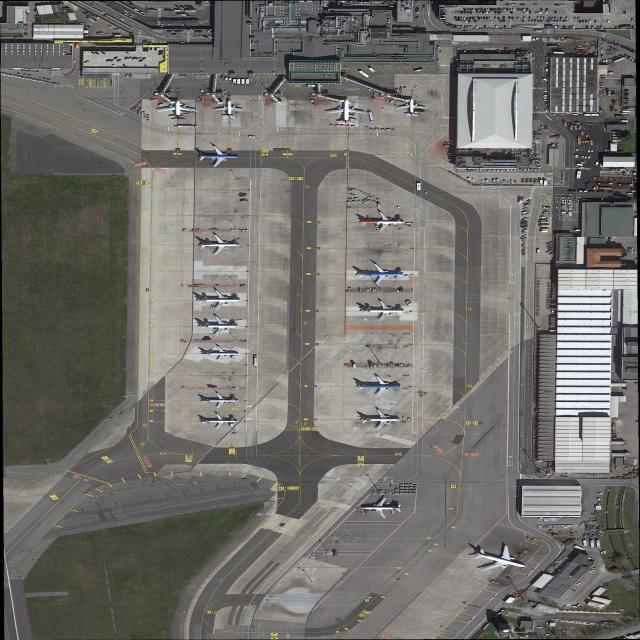large-vehicle: (533, 30, 543, 32)
plane: (460, 541, 541, 580), (323, 98, 368, 126), (356, 263, 405, 286), (195, 145, 240, 168), (355, 376, 403, 397), (360, 300, 407, 321), (360, 211, 406, 232), (358, 409, 403, 430), (198, 290, 242, 311), (198, 316, 240, 338), (199, 235, 242, 256), (362, 497, 403, 519), (157, 99, 199, 120), (394, 98, 429, 117), (201, 392, 240, 409), (213, 100, 246, 119), (200, 414, 239, 430), (203, 346, 240, 362)
small-vehicle: (112, 56, 119, 60), (174, 4, 180, 8), (133, 8, 140, 11), (104, 59, 111, 62), (157, 50, 164, 53), (413, 7, 420, 10), (102, 1, 107, 5), (112, 64, 117, 68), (467, 177, 472, 181), (592, 186, 597, 190), (414, 2, 420, 5), (129, 16, 135, 19), (120, 18, 126, 21), (129, 13, 135, 16), (203, 35, 209, 38), (23, 32, 29, 35), (130, 57, 136, 60), (179, 5, 185, 8), (188, 5, 194, 8), (184, 5, 190, 8), (94, 52, 100, 55), (158, 52, 164, 55), (613, 56, 619, 59), (609, 48, 615, 51), (543, 79, 549, 82), (96, 32, 104, 34), (492, 179, 496, 183), (485, 179, 489, 183), (573, 229, 581, 231), (497, 10, 501, 14), (632, 50, 636, 54), (449, 24, 454, 27), (415, 11, 420, 14), (415, 0, 420, 3), (124, 10, 129, 13), (124, 13, 129, 16), (206, 30, 211, 33), (116, 59, 121, 62), (109, 59, 114, 62), (138, 57, 143, 60), (128, 57, 133, 60), (123, 57, 128, 60), (194, 30, 199, 33), (198, 30, 203, 33), (174, 30, 179, 33), (101, 52, 106, 55), (138, 59, 143, 62), (463, 169, 468, 172), (619, 54, 624, 57), (630, 250, 635, 253), (610, 57, 615, 60), (605, 50, 610, 53), (609, 52, 614, 55), (608, 59, 613, 62), (415, 16, 420, 19), (414, 9, 419, 12), (571, 54, 578, 56), (626, 193, 633, 195), (600, 551, 603, 555), (586, 25, 589, 29), (453, 25, 457, 28), (397, 206, 401, 209), (394, 104, 398, 107), (441, 21, 447, 23), (446, 23, 450, 26), (611, 437, 617, 439), (34, 15, 40, 17), (140, 12, 146, 14), (180, 26, 186, 28), (108, 25, 112, 28), (179, 30, 183, 33), (84, 61, 90, 63), (126, 74, 129, 78), (129, 74, 132, 78), (225, 76, 228, 80), (91, 51, 95, 54), (142, 57, 146, 60), (536, 166, 542, 168), (537, 168, 541, 171), (496, 179, 499, 183), (631, 58, 635, 61), (599, 85, 605, 87), (543, 98, 549, 100), (587, 149, 591, 152), (566, 204, 572, 206), (566, 207, 572, 209), (580, 200, 586, 202), (581, 198, 587, 200), (630, 248, 634, 251), (627, 247, 631, 250), (622, 253, 628, 255), (567, 201, 573, 203), (540, 216, 546, 218), (544, 218, 550, 220), (561, 201, 567, 203), (508, 16, 511, 20), (497, 8, 501, 11), (554, 4, 560, 6), (627, 48, 631, 51), (630, 49, 634, 52), (609, 46, 613, 49), (612, 48, 618, 50), (605, 59, 608, 63), (620, 45, 624, 48), (422, 4, 425, 8), (532, 38, 536, 41), (577, 45, 583, 47), (534, 4, 539, 6), (561, 4, 566, 6), (440, 7, 445, 9), (440, 9, 445, 11), (440, 16, 445, 18), (161, 24, 166, 26), (208, 36, 213, 38), (199, 36, 204, 38), (542, 476, 547, 478), (12, 36, 17, 38), (24, 29, 29, 31), (518, 636, 523, 638), (35, 18, 40, 20), (35, 20, 40, 22), (35, 22, 40, 24), (623, 95, 628, 97), (612, 57, 617, 59), (624, 92, 629, 94), (623, 102, 628, 104), (600, 75, 605, 77), (624, 91, 629, 93), (543, 89, 548, 91), (544, 96, 549, 98), (535, 164, 540, 166), (604, 149, 609, 151), (622, 254, 627, 256), (622, 262, 627, 264), (568, 194, 573, 196), (566, 198, 571, 200), (561, 198, 566, 200), (561, 210, 566, 212), (455, 19, 460, 21), (614, 51, 619, 53), (470, 25, 473, 28), (495, 26, 498, 29), (511, 26, 514, 29), (504, 25, 507, 28), (632, 26, 635, 29), (631, 17, 634, 20), (607, 20, 610, 23), (597, 26, 600, 29), (591, 26, 594, 29), (588, 20, 591, 23), (574, 17, 577, 20), (603, 551, 606, 554), (517, 17, 520, 20), (522, 20, 525, 23), (545, 11, 548, 14), (539, 11, 542, 14), (526, 11, 529, 14), (523, 8, 526, 11), (503, 8, 506, 11), (476, 11, 479, 14), (523, 17, 526, 20), (534, 19, 537, 22), (569, 26, 572, 29), (550, 20, 553, 23), (543, 17, 546, 20), (540, 17, 543, 20), (537, 17, 540, 20), (402, 416, 405, 419), (73, 59, 76, 62), (54, 69, 57, 72), (229, 77, 232, 80), (224, 90, 227, 93), (546, 622, 549, 625), (135, 57, 138, 60), (154, 48, 157, 51), (472, 8, 475, 11), (545, 109, 548, 112), (473, 169, 476, 172), (479, 169, 482, 172), (527, 168, 530, 171), (601, 198, 604, 201), (634, 250, 637, 253), (408, 365, 411, 368), (576, 149, 579, 152), (581, 156, 584, 159), (584, 156, 587, 159), (555, 206, 558, 209), (629, 57, 632, 60), (502, 16, 505, 19), (511, 16, 514, 19), (463, 8, 466, 11), (460, 11, 463, 14), (466, 11, 469, 14), (469, 11, 472, 14), (469, 8, 472, 11), (482, 11, 485, 14), (480, 8, 483, 11), (483, 8, 486, 11), (489, 8, 492, 11), (494, 8, 497, 11), (493, 11, 496, 14), (506, 8, 509, 11), (510, 11, 513, 14), (526, 8, 529, 11), (502, 19, 505, 22), (463, 11, 466, 14), (489, 17, 492, 20), (490, 20, 493, 23), (463, 17, 466, 20), (460, 17, 463, 20), (465, 20, 468, 23), (454, 16, 457, 19), (468, 20, 471, 23), (477, 17, 480, 20), (540, 8, 543, 11), (600, 50, 603, 53), (602, 59, 605, 62), (579, 20, 582, 23), (582, 20, 585, 23), (585, 20, 588, 23), (594, 20, 597, 23), (536, 37, 539, 40), (381, 108, 385, 110), (441, 13, 445, 15), (444, 23, 448, 25), (547, 19, 549, 23), (174, 10, 182, 11), (195, 36, 199, 38), (171, 30, 175, 32), (126, 52, 130, 54), (624, 89, 628, 91), (534, 155, 538, 157), (627, 250, 631, 252), (551, 310, 555, 312), (618, 56, 622, 58), (474, 19, 476, 23), (606, 53, 610, 55), (617, 50, 621, 52), (607, 49, 611, 51), (458, 25, 460, 28), (484, 26, 486, 29), (624, 11, 626, 14), (601, 26, 603, 29), (408, 418, 410, 421), (404, 87, 406, 90), (415, 86, 417, 89), (440, 19, 446, 20), (578, 17, 580, 20), (566, 17, 568, 20), (523, 11, 525, 14), (518, 8, 520, 11), (512, 9, 515, 11), (509, 8, 511, 11), (500, 8, 502, 11), (501, 11, 503, 14), (487, 8, 489, 11), (489, 11, 491, 14), (478, 8, 480, 11), (479, 11, 482, 13), (531, 20, 534, 22), (573, 26, 575, 29), (558, 26, 560, 29), (555, 26, 557, 29), (564, 26, 566, 29), (560, 20, 562, 23), (555, 17, 557, 20), (557, 20, 559, 23), (554, 20, 556, 23), (552, 17, 554, 20), (548, 17, 551, 19), (529, 17, 531, 20), (538, 19, 540, 22), (167, 24, 173, 25), (160, 26, 166, 27), (34, 9, 36, 12), (26, 13, 29, 15), (180, 42, 186, 43), (34, 17, 40, 18), (242, 230, 245, 232), (245, 230, 248, 232), (545, 634, 551, 635), (149, 48, 152, 50), (467, 8, 469, 11), (458, 11, 460, 14), (493, 169, 495, 172), (497, 169, 499, 172), (501, 169, 503, 172), (523, 169, 526, 171), (534, 169, 537, 171), (511, 180, 513, 183), (625, 55, 627, 58), (627, 56, 629, 59), (624, 94, 630, 95), (561, 212, 567, 213), (591, 150, 594, 152), (588, 156, 591, 158), (576, 155, 578, 158), (455, 11, 458, 13), (475, 8, 477, 11), (492, 8, 494, 11), (520, 8, 522, 11), (497, 17, 500, 19), (500, 19, 502, 22), (495, 17, 497, 20), (475, 17, 477, 20), (481, 17, 483, 20), (462, 20, 464, 23), (458, 16, 460, 19), (472, 17, 474, 20), (484, 17, 486, 20), (486, 17, 489, 19), (529, 11, 531, 14), (519, 4, 525, 5), (624, 46, 626, 49), (626, 47, 628, 50), (601, 43, 603, 46), (601, 54, 603, 57), (618, 44, 620, 47), (616, 43, 618, 46), (546, 69, 548, 72), (601, 39, 604, 41), (604, 40, 607, 42), (610, 42, 613, 44), (505, 4, 510, 5), (511, 4, 516, 5), (440, 11, 445, 12), (440, 15, 445, 16), (440, 18, 445, 19), (172, 27, 177, 28), (537, 627, 542, 628), (171, 34, 176, 35), (624, 97, 629, 98), (599, 83, 604, 84), (544, 95, 549, 96), (567, 203, 572, 204), (567, 206, 572, 207), (567, 209, 572, 210), (567, 211, 572, 212), (622, 261, 627, 262), (567, 200, 572, 201), (561, 205, 566, 206), (560, 206, 565, 207), (566, 197, 571, 198), (465, 26, 467, 28), (467, 26, 469, 28), (476, 26, 478, 28), (461, 26, 463, 28), (441, 12, 445, 13), (528, 20, 530, 22), (547, 9, 549, 11), (536, 12, 538, 14), (486, 12, 488, 14), (566, 20, 568, 22), (563, 20, 565, 22), (541, 20, 543, 22), (622, 444, 626, 445), (7, 37, 11, 38), (177, 89, 181, 90), (476, 169, 478, 171), (507, 169, 509, 171), (517, 169, 519, 171), (514, 169, 516, 171), (625, 101, 629, 102), (544, 100, 548, 101), (601, 78, 605, 79), (624, 98, 628, 99), (544, 91, 548, 92), (561, 197, 565, 198), (562, 200, 566, 201), (469, 17, 471, 19), (601, 48, 603, 50), (463, 31, 467, 32), (555, 11, 557, 13), (613, 43, 615, 45), (607, 41, 609, 43), (561, 17, 562, 20), (467, 17, 468, 20)
